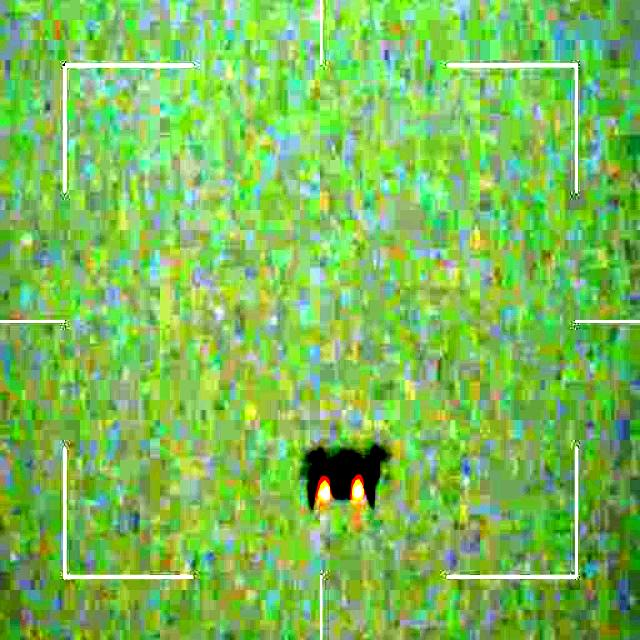bird: (301, 442, 388, 512)
